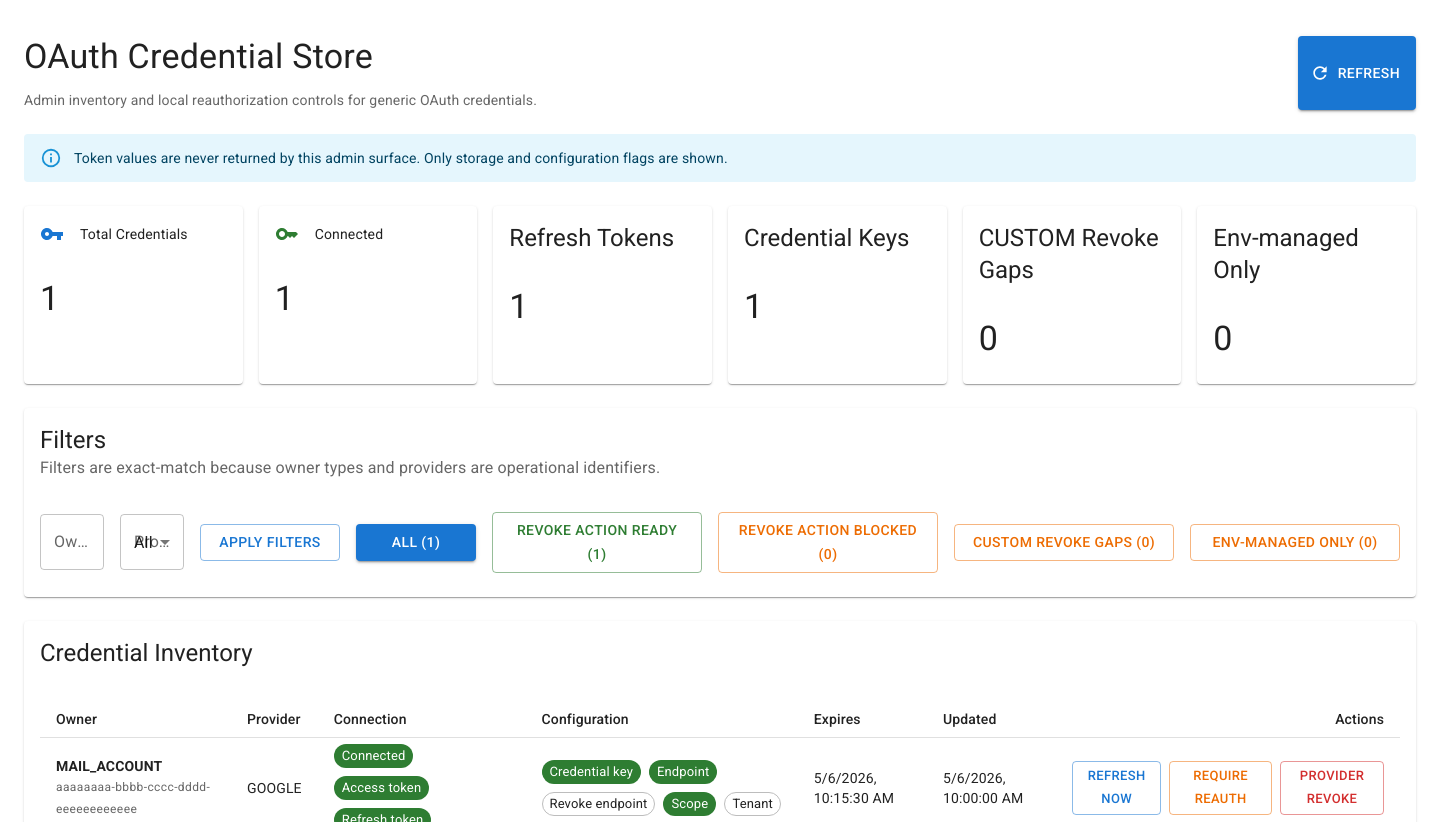
refreshes OAuth credential token status
Expected: the text "MAIL_ACCOUNT" is shown, [56,758,162,774]
Step 1. Click the button "Refresh Now" → (1117, 788), box [1072,761,1161,815]
(page scrolled)
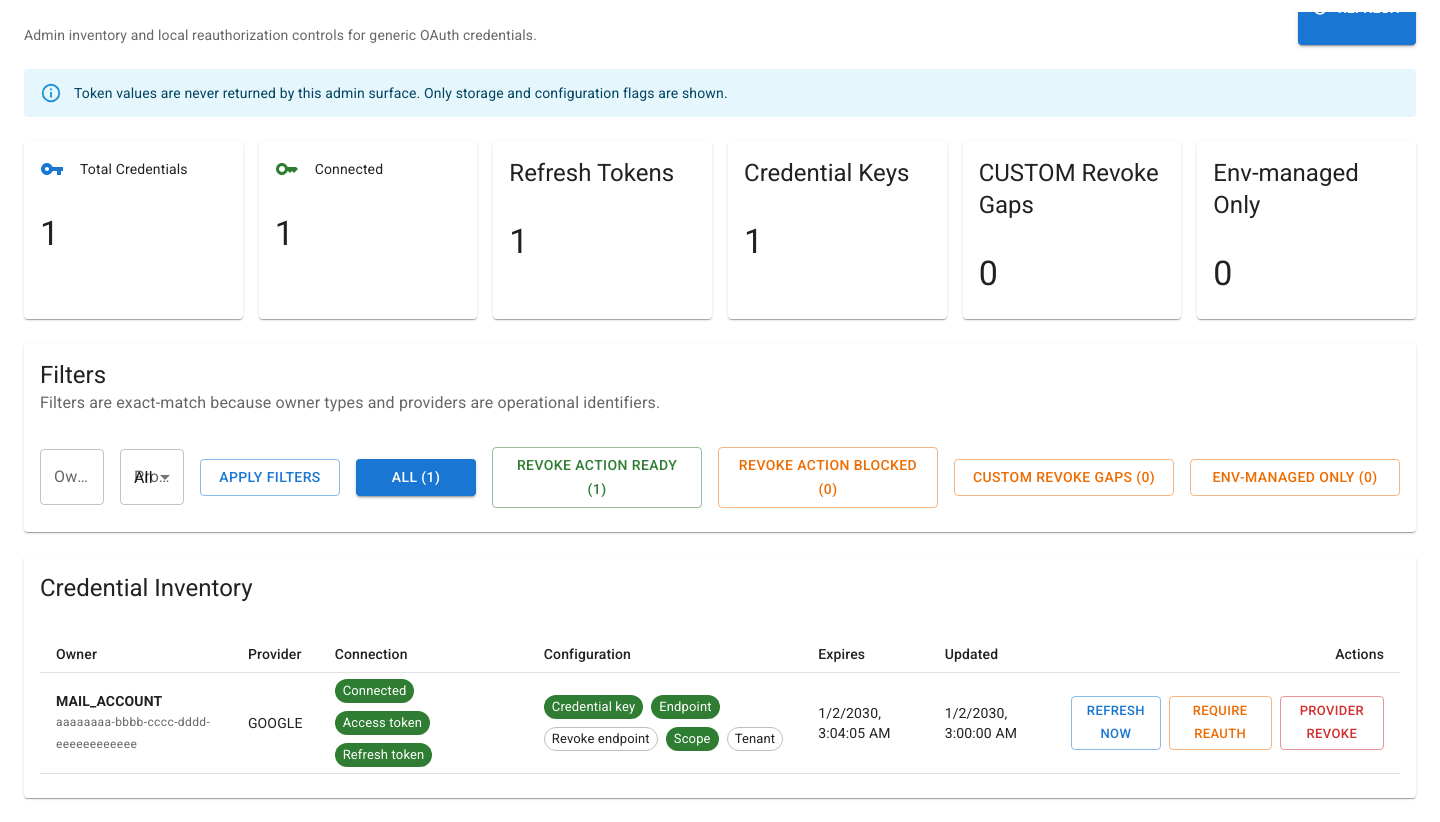
Expected: the text "1/2/2030, 3:04:05 AM" is shown, [802,672,929,774]
